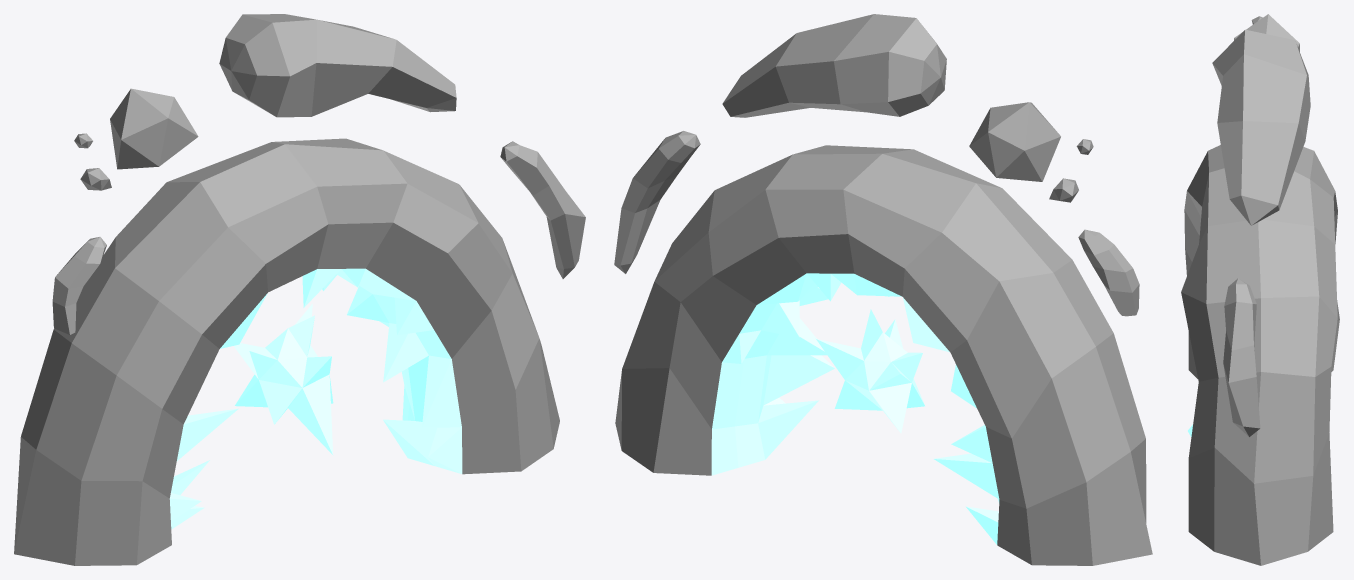
Rendered from lvl2SL.fbx.
The picture shows the model from 3 angles, left to right: view 1: azimuth 30°, elevation 25°; view 2: azimuth 150°, elevation 25°; view 3: azimuth 270°, elevation 25°; orthographic projection. The views are drawn at different scales.
Parts seen in each view (by area): view 1: lvl2; view 2: lvl2; view 3: lvl2.
Boxes of the visible parts, x1,y1,x2,y2 form: lvl2: [14, 14, 585, 565]; lvl2: [614, 14, 1152, 565]; lvl2: [1181, 14, 1339, 565].
Size of the model in its own units: 624 by 513 by 180.
